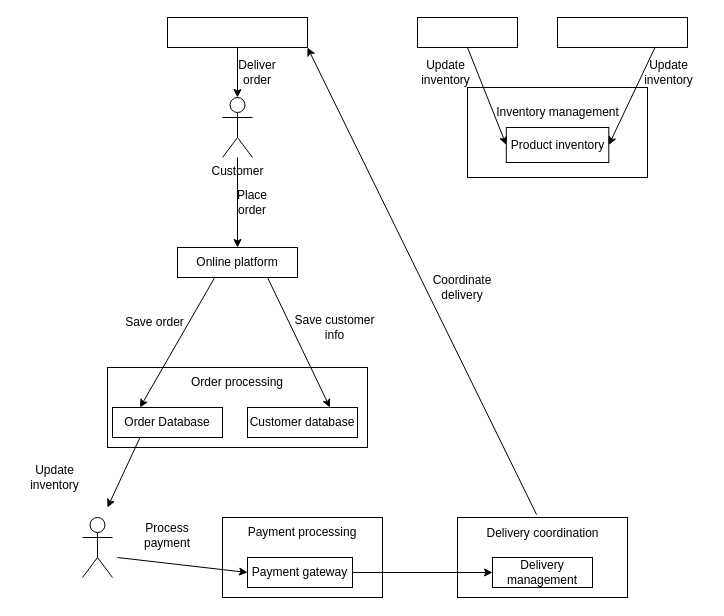
Image size: 724x616. Some labels were removed from this diagram. The shapes that lost their labels are listed below. From the top down, each one's centre as x and y in pixels, then its label:
At pixel 237 32: "Logistics and distribution".
At pixel 467 32: "Local farmers".
At pixel 622 32: "Eco-conscious suppliers".
At pixel 97 547: "inventory_management".
